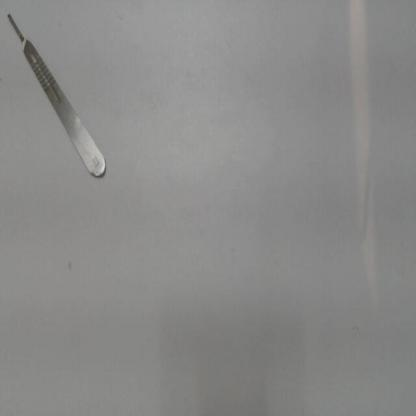No.3 BP Handle: (2, 5, 120, 192)
